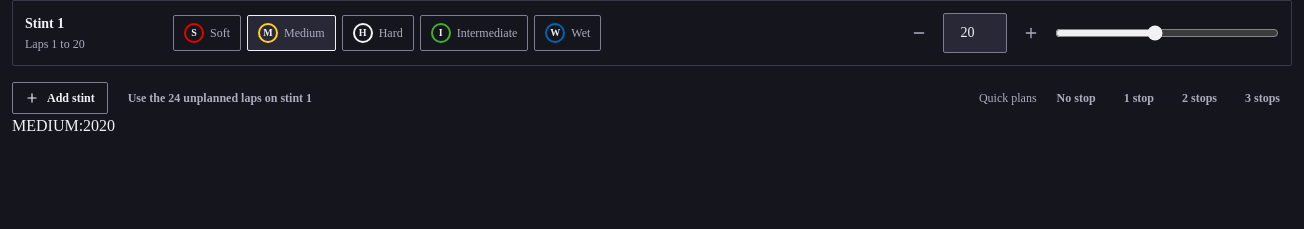
Test case: StintEditor › adds a stint that takes the laps still to plan
This screenshot has width=1304, height=229.
Step 1. Click the button "Add stint" → click(60, 98), box [12,82,108,114]
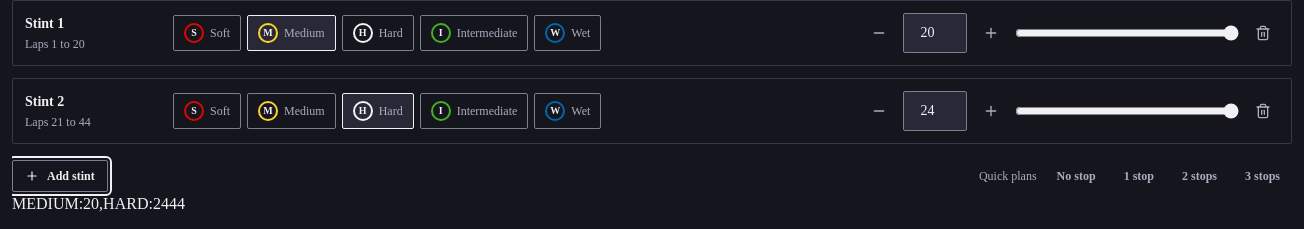
Result: the text named "plan" reads "MEDIUM:20,HARD:24" at [12,195,169,212]
